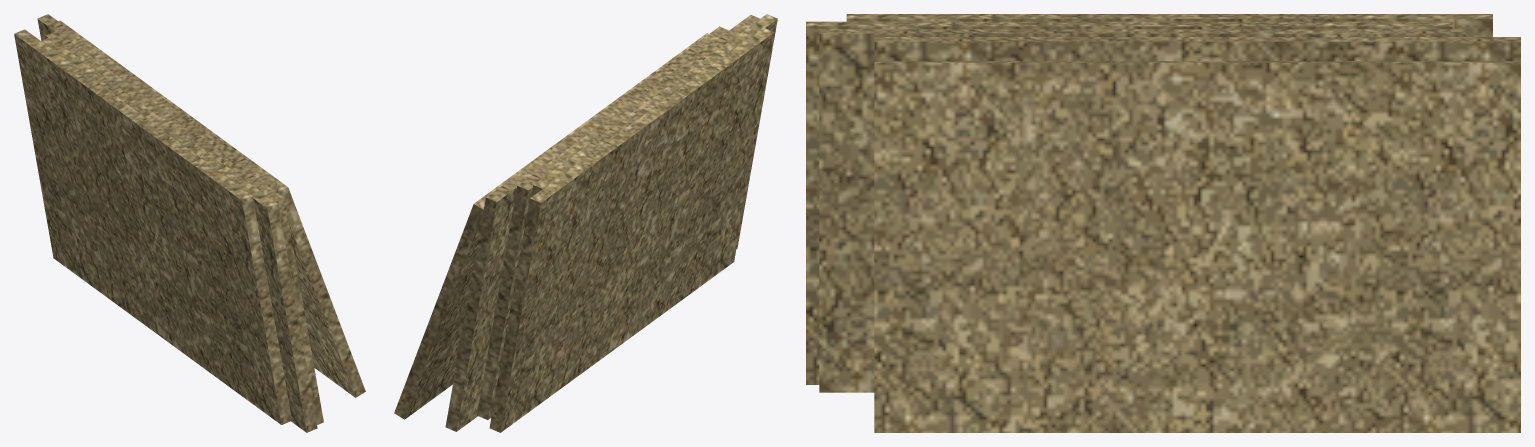
File: insulation_pile_02.DAE
The picture shows the model from 3 angles, left to right: view 1: azimuth 30°, elevation 25°; view 2: azimuth 150°, elevation 25°; view 3: azimuth 270°, elevation 25°; orthographic projection. The views are drawn at different scales.
Parts seen in each view (by area): view 1: Box033; view 2: Box033; view 3: Box033.
Part boxes in pixels (x1=…): Box033: x1=14, y1=14, x2=365, y2=432; Box033: x1=394, y1=14, x2=777, y2=432; Box033: x1=806, y1=14, x2=1520, y2=432.
Bounding box in the file's own units: 0.5963 × 1.01 × 1.95.
